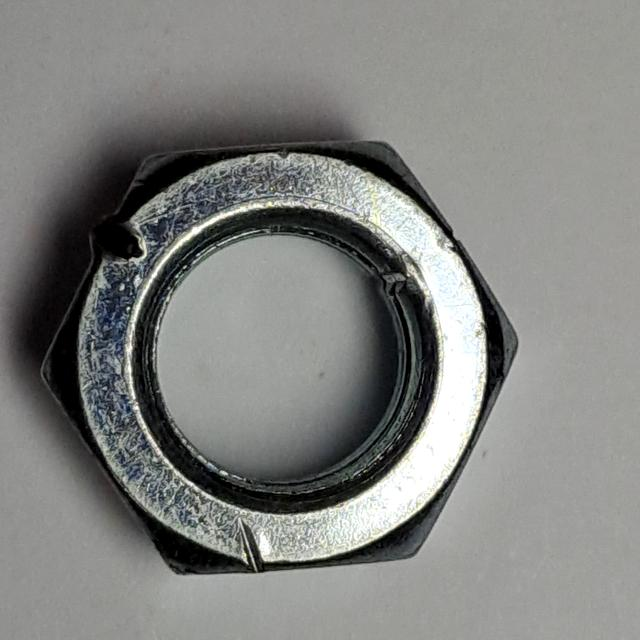Scratches: (25, 121, 531, 589)
